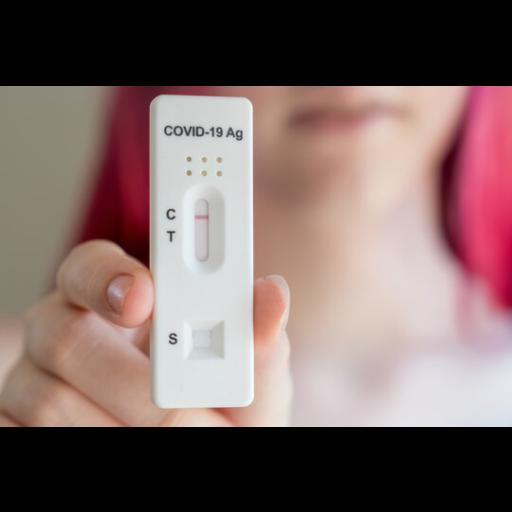Neg: (154, 94, 254, 404)
